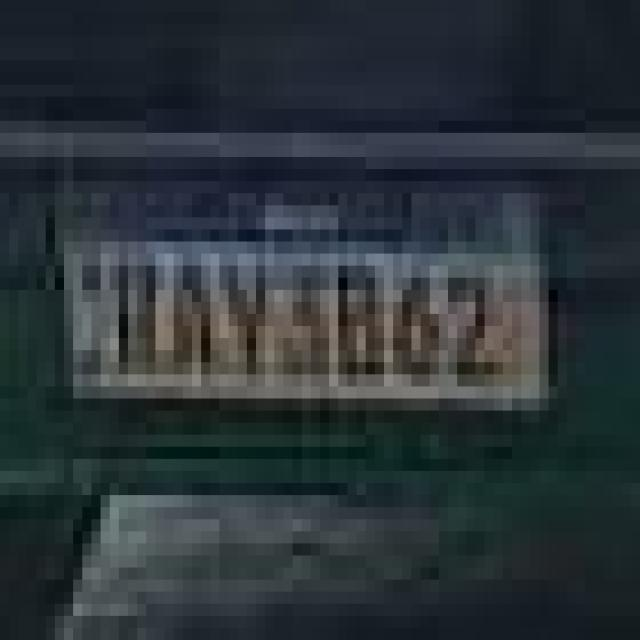6: (389, 268, 444, 381)
A: (174, 261, 222, 380)
B: (333, 251, 390, 386)
Y: (222, 253, 269, 380)
